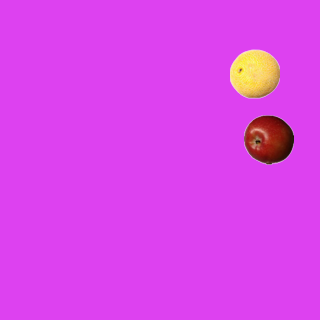Apple Braeburn: (243, 114, 293, 164)
Cantaloupe 1: (229, 48, 279, 98)
